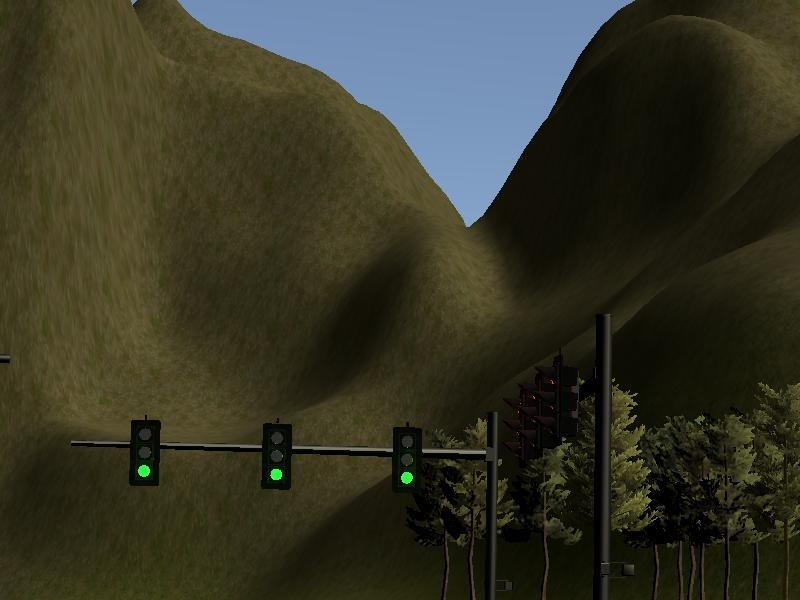traffic_light_green: (67, 409, 445, 498)
